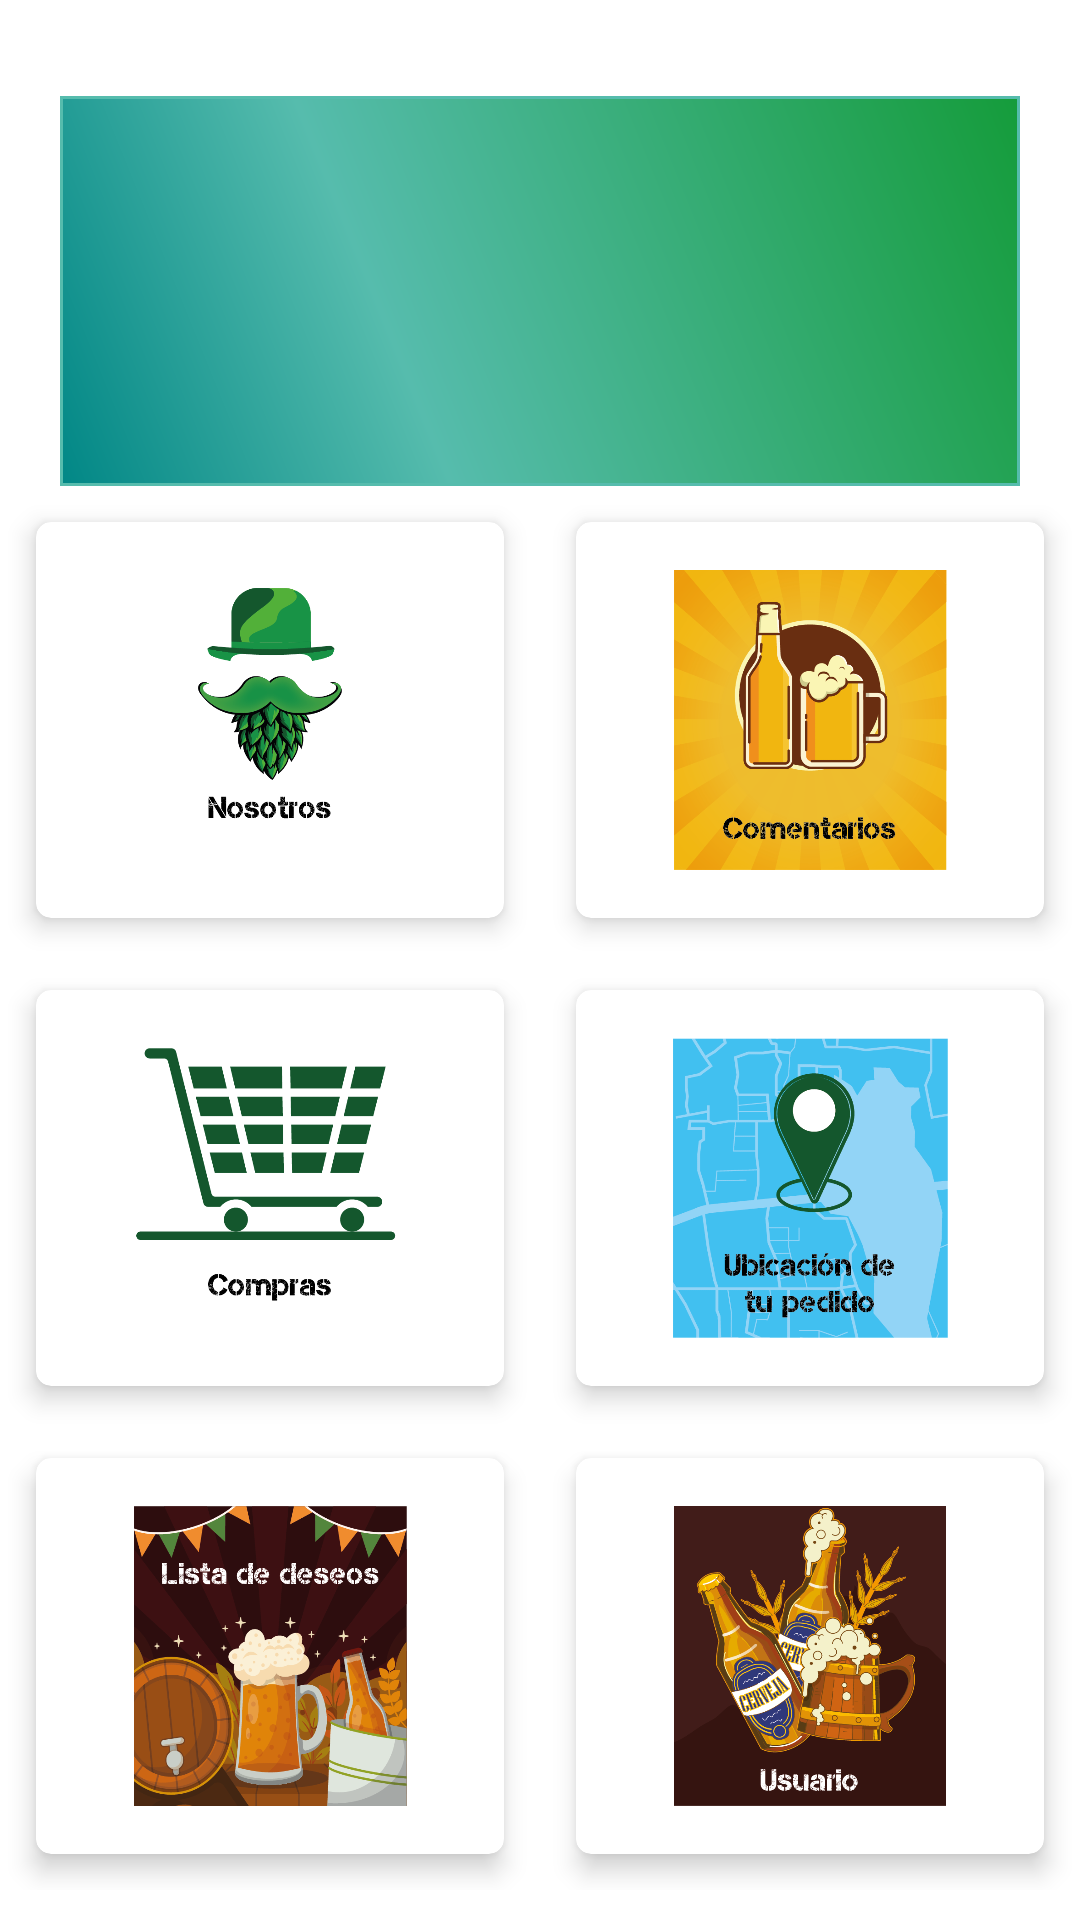

Screen size 1080 x 1920. Icon name, then its box in pixels as (x1,y1,x2,y2):
gps home: (673,1038,948,1338)
